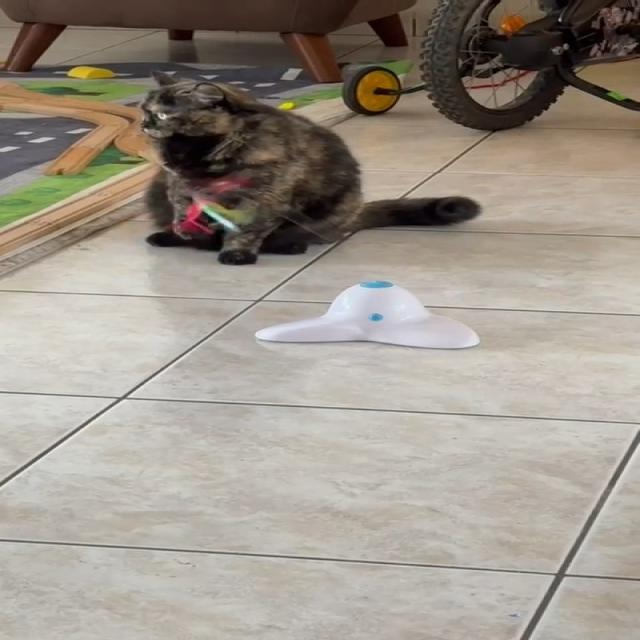authorized: (136, 69, 481, 265)
